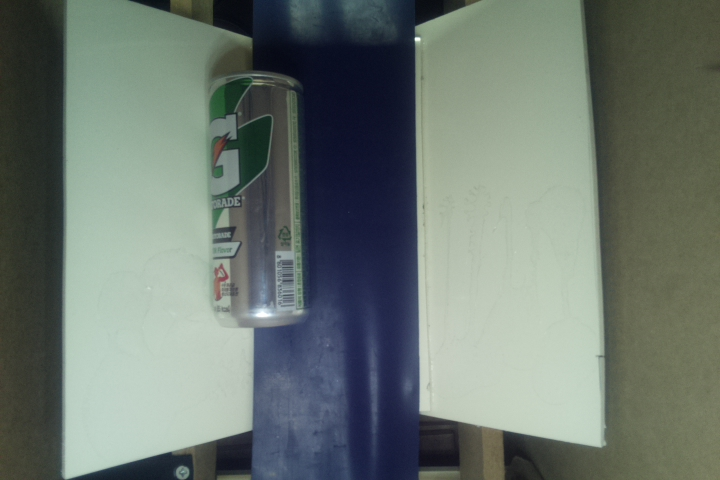can: (201, 69, 310, 331)
